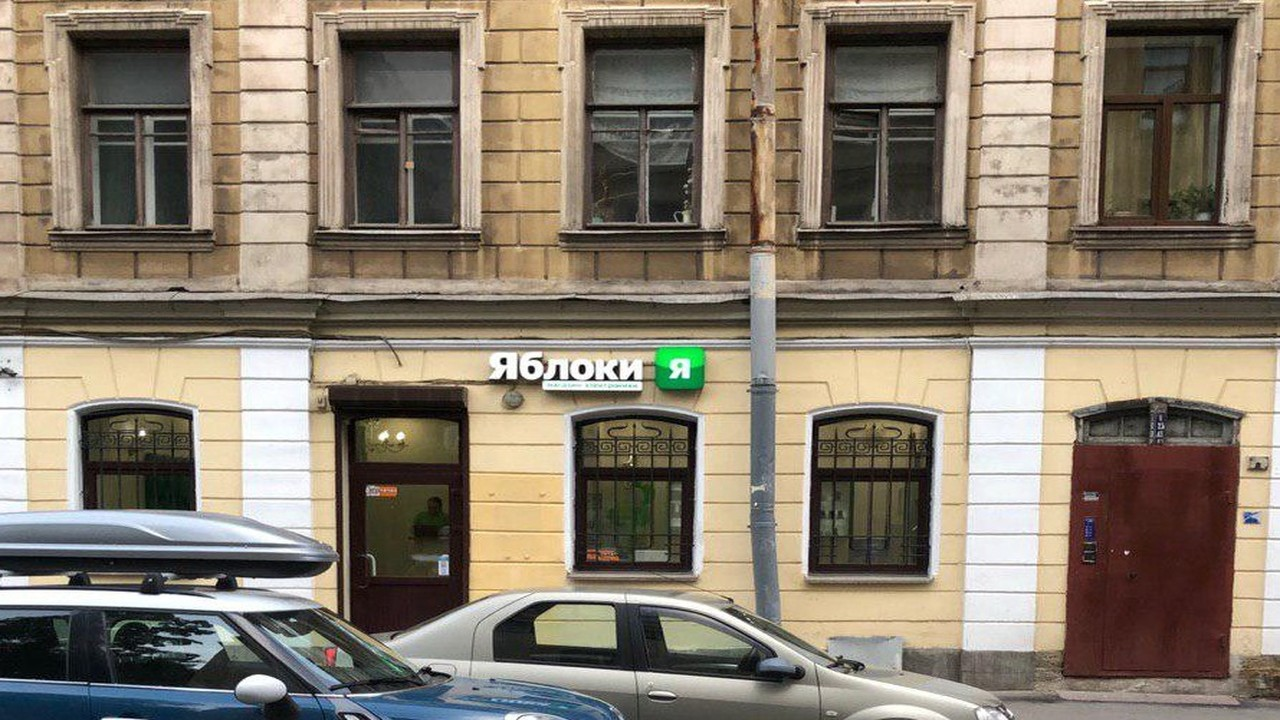door: (349, 410, 467, 627)
signboard: (486, 341, 706, 400)
window: (1102, 26, 1235, 224), (576, 34, 703, 234), (819, 28, 944, 226), (347, 36, 457, 230), (84, 39, 193, 230), (804, 408, 928, 574), (577, 419, 692, 572)
